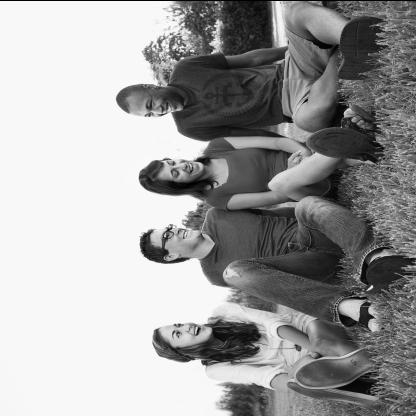Eye: (172, 168, 180, 178), (168, 158, 177, 166), (174, 330, 182, 338), (176, 322, 184, 328), (149, 100, 155, 106), (146, 112, 154, 116), (166, 234, 170, 240), (169, 226, 174, 230)
Mouth: (191, 323, 205, 336), (163, 100, 175, 113), (186, 160, 198, 172), (182, 228, 192, 238)
Nose: (153, 106, 165, 115), (182, 323, 192, 332), (177, 162, 187, 170), (172, 226, 180, 235)
